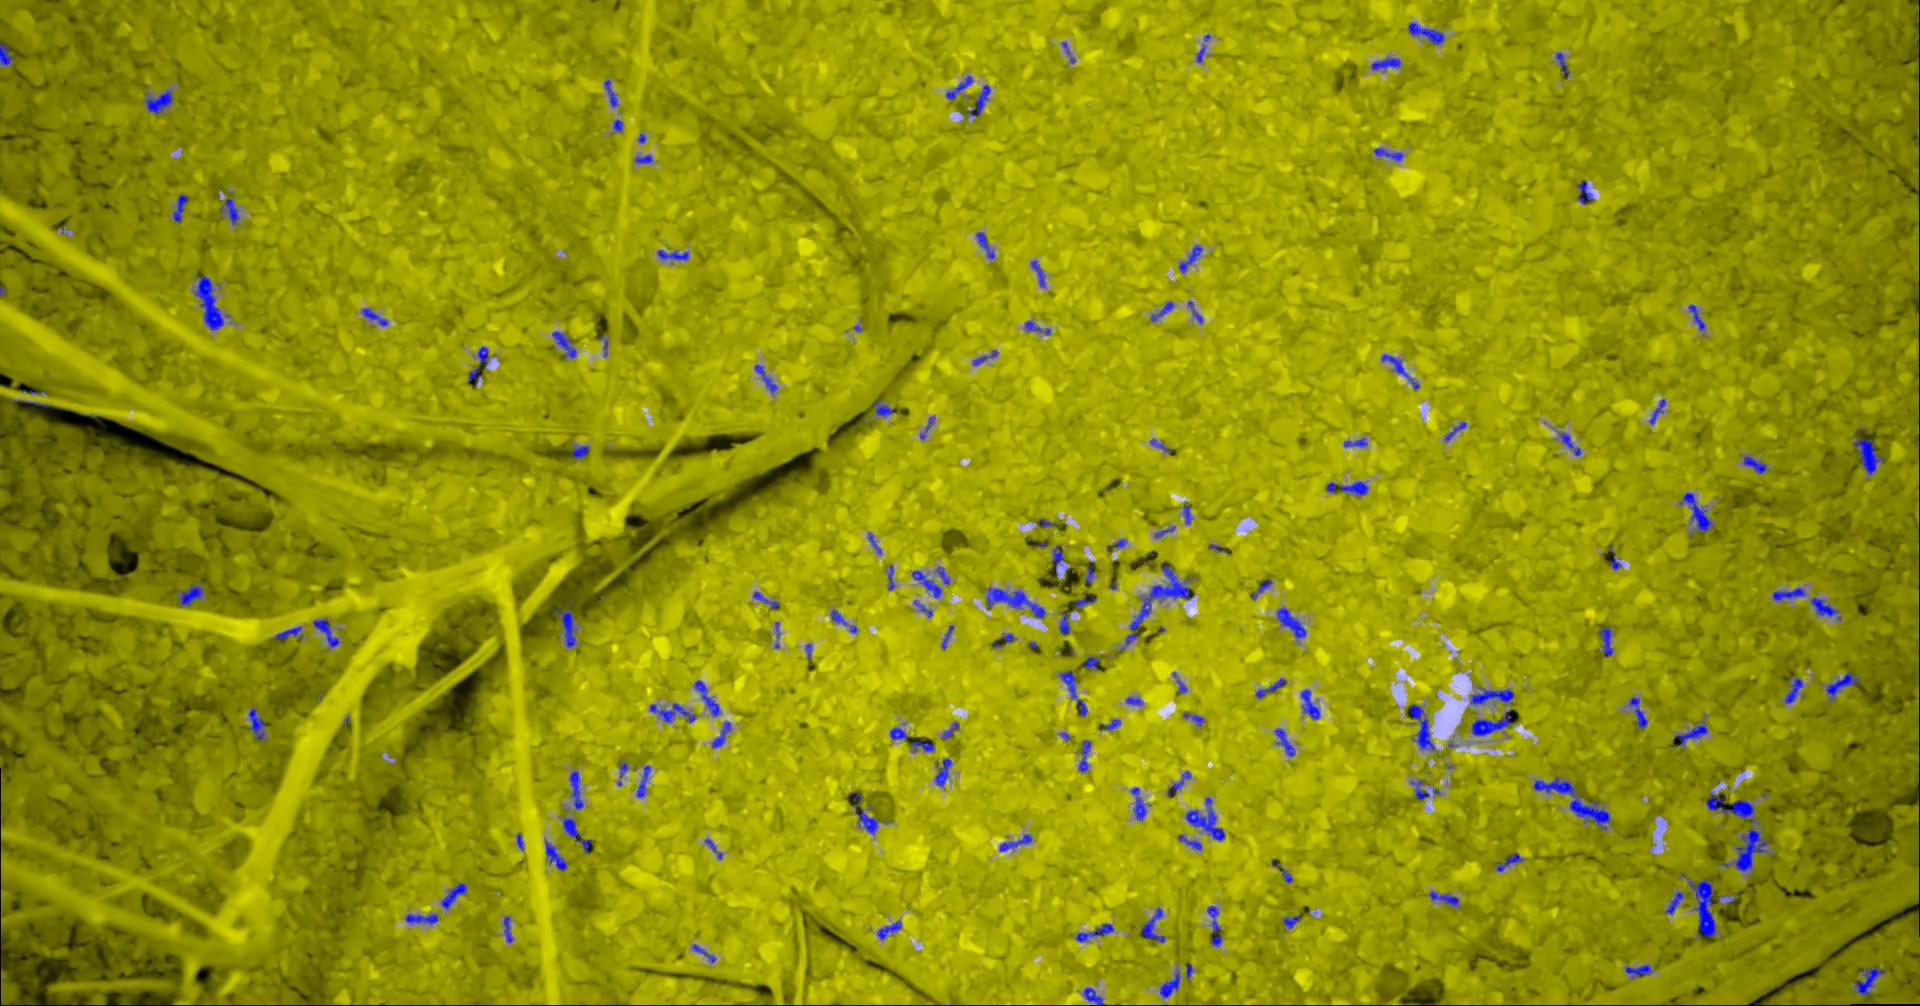ant: (1128, 565, 1195, 645), (1535, 776, 1611, 829), (196, 276, 231, 330), (988, 587, 1046, 619), (1689, 879, 1718, 936), (1187, 796, 1225, 840), (1735, 827, 1770, 871), (1708, 793, 1756, 822), (1681, 492, 1716, 531), (1060, 671, 1090, 716), (1383, 354, 1421, 389), (1410, 702, 1436, 749), (1472, 708, 1512, 735), (1855, 438, 1884, 474), (855, 793, 879, 835), (564, 817, 592, 852), (696, 680, 723, 716), (1827, 671, 1862, 699), (1277, 607, 1307, 639), (1142, 907, 1167, 942), (1672, 721, 1709, 746), (651, 702, 697, 721), (555, 607, 577, 647), (1410, 22, 1446, 44), (1857, 967, 1886, 995), (913, 570, 943, 597), (314, 619, 342, 647), (1470, 687, 1515, 704), (1077, 923, 1115, 942), (146, 89, 174, 114), (1812, 597, 1843, 620), (970, 84, 992, 116), (552, 332, 578, 358), (443, 882, 469, 908), (546, 840, 568, 870), (947, 75, 974, 99), (756, 365, 778, 392), (1208, 904, 1223, 946), (1257, 678, 1288, 699), (1180, 245, 1203, 272), (1630, 696, 1650, 728), (1328, 481, 1370, 495), (1302, 688, 1321, 719), (1276, 728, 1297, 756), (1170, 771, 1192, 795), (571, 770, 585, 809), (179, 584, 204, 606), (1131, 788, 1148, 821), (1161, 970, 1181, 997), (977, 231, 996, 259), (1001, 835, 1032, 851), (1561, 432, 1583, 455), (1272, 857, 1294, 882), (1785, 676, 1804, 702), (712, 721, 731, 748), (874, 399, 902, 417), (250, 708, 265, 739), (1498, 852, 1524, 871), (1689, 304, 1707, 330), (1650, 398, 1667, 424), (1152, 301, 1175, 321), (174, 194, 190, 222), (936, 758, 952, 786), (1666, 890, 1685, 915), (879, 920, 903, 939), (693, 942, 717, 962), (222, 198, 240, 224), (363, 307, 389, 325), (1743, 455, 1769, 473), (754, 591, 780, 608), (637, 765, 651, 796), (604, 79, 620, 107), (1774, 587, 1807, 600), (1411, 779, 1431, 799), (1446, 420, 1468, 439), (1197, 33, 1211, 62), (1375, 147, 1404, 161), (1601, 626, 1615, 655), (1431, 890, 1460, 904), (1032, 260, 1048, 287), (1053, 545, 1065, 577), (1079, 741, 1092, 772), (1026, 320, 1051, 335), (1253, 579, 1272, 600), (1084, 987, 1106, 1005), (921, 417, 937, 439), (1578, 180, 1594, 205), (1178, 835, 1203, 850), (706, 838, 724, 859), (1557, 52, 1571, 77), (974, 351, 999, 365), (276, 626, 303, 639), (1625, 964, 1653, 977), (659, 249, 690, 260), (406, 913, 439, 923), (1373, 57, 1402, 69), (1189, 301, 1204, 323), (1076, 594, 1098, 608), (943, 721, 960, 739), (1, 42, 14, 65), (943, 624, 955, 649), (1185, 713, 1206, 725), (832, 608, 848, 625), (1284, 915, 1303, 929), (618, 762, 630, 785), (573, 445, 590, 459), (479, 345, 490, 367), (1060, 611, 1070, 635), (891, 727, 910, 739), (505, 916, 514, 942), (913, 741, 936, 751), (469, 367, 483, 384), (937, 567, 951, 583), (1084, 655, 1101, 669), (1109, 539, 1128, 550), (1105, 719, 1123, 730), (889, 564, 897, 589), (1183, 504, 1192, 525), (1345, 438, 1368, 446), (1087, 561, 1095, 583), (636, 154, 654, 163)
